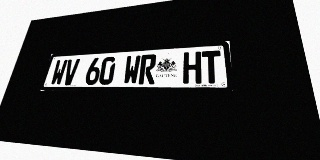0: (98, 56, 116, 85)
6: (84, 57, 103, 85)
H: (183, 51, 201, 84)
R: (138, 54, 157, 84)
T: (202, 50, 222, 84)
V: (62, 59, 80, 85)
W: (122, 55, 141, 85), (50, 59, 68, 85)
